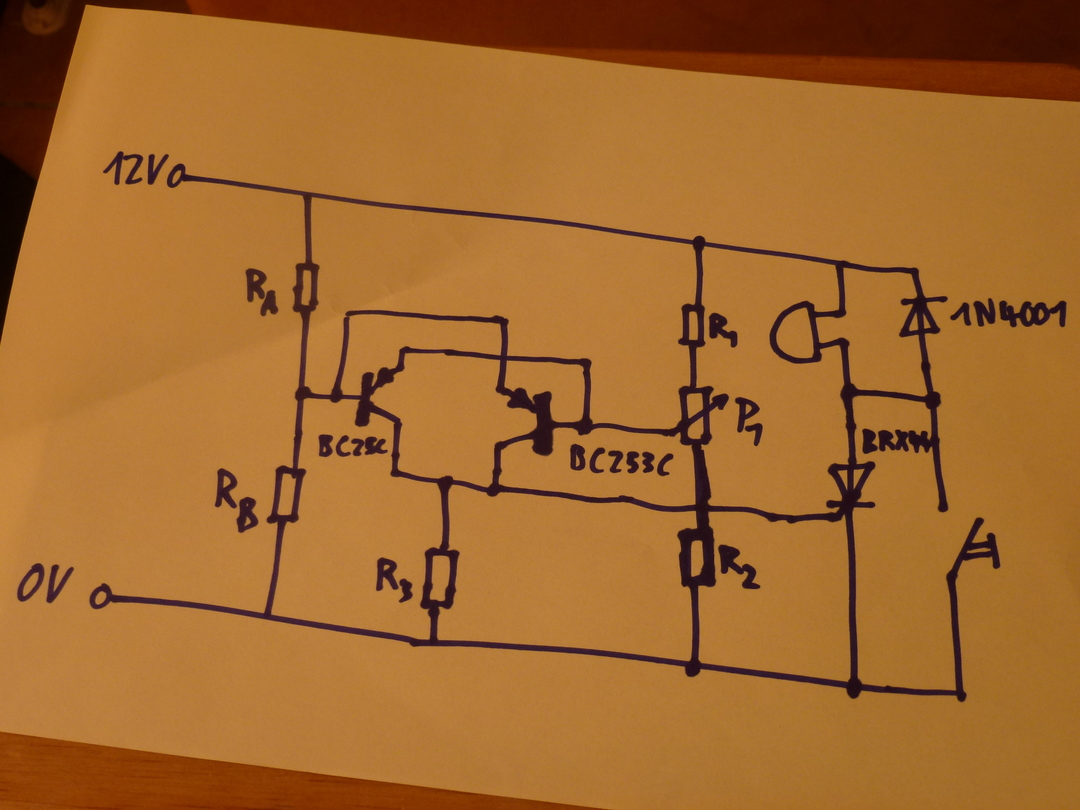crossover: (690, 499, 715, 517), (495, 350, 513, 366)
diode: (898, 295, 948, 339)
junction: (683, 657, 703, 681), (326, 386, 347, 407), (923, 390, 943, 412), (574, 417, 596, 437), (845, 677, 863, 701), (839, 382, 859, 403), (484, 480, 504, 500), (435, 474, 456, 493), (293, 383, 312, 404), (495, 310, 513, 329), (690, 233, 707, 253), (952, 687, 969, 705), (578, 354, 595, 370), (832, 256, 848, 272), (426, 635, 442, 650), (259, 609, 275, 624), (300, 188, 316, 202), (837, 334, 851, 349), (387, 466, 402, 480), (835, 306, 848, 321), (909, 264, 921, 279), (397, 344, 410, 357), (342, 308, 354, 322)
lamp: (768, 299, 824, 366)
resistor: (676, 524, 718, 591), (419, 546, 461, 612), (265, 464, 307, 524), (290, 260, 321, 318), (677, 301, 706, 349)
resistor.adjustable: (672, 383, 730, 448)
switch: (936, 505, 1002, 580)
terminal: (88, 582, 115, 611), (166, 162, 189, 190)
text: (569, 442, 675, 478), (949, 298, 1068, 330), (213, 466, 261, 534), (102, 149, 170, 187), (15, 561, 75, 604), (717, 542, 762, 591), (374, 556, 415, 604), (860, 428, 931, 455), (316, 432, 389, 458), (244, 267, 280, 317), (734, 396, 765, 447), (707, 310, 740, 349)
thyristor: (826, 461, 879, 527)
transistor: (491, 386, 555, 456), (353, 366, 405, 428)
